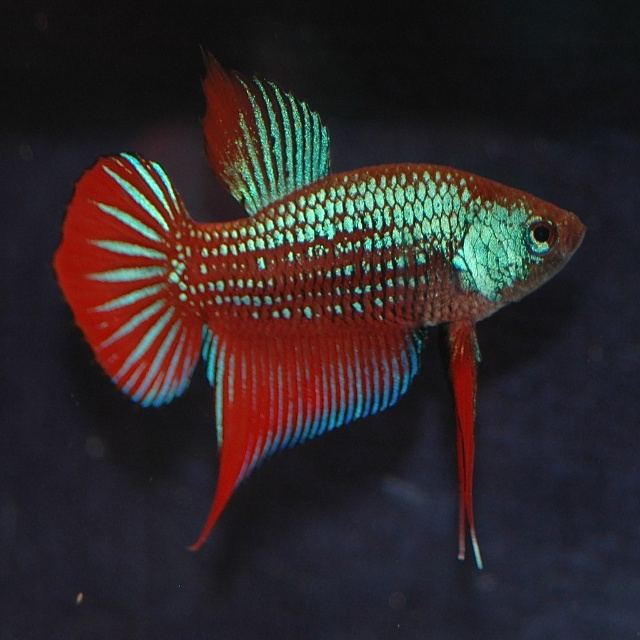Fish: (43, 64, 575, 579)
